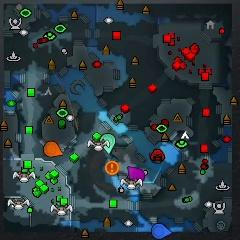Other: (105, 161, 119, 175)
p1: (152, 223, 172, 239)
p2: (100, 133, 116, 154)
p3: (127, 166, 145, 181)
p5: (44, 141, 63, 157)
